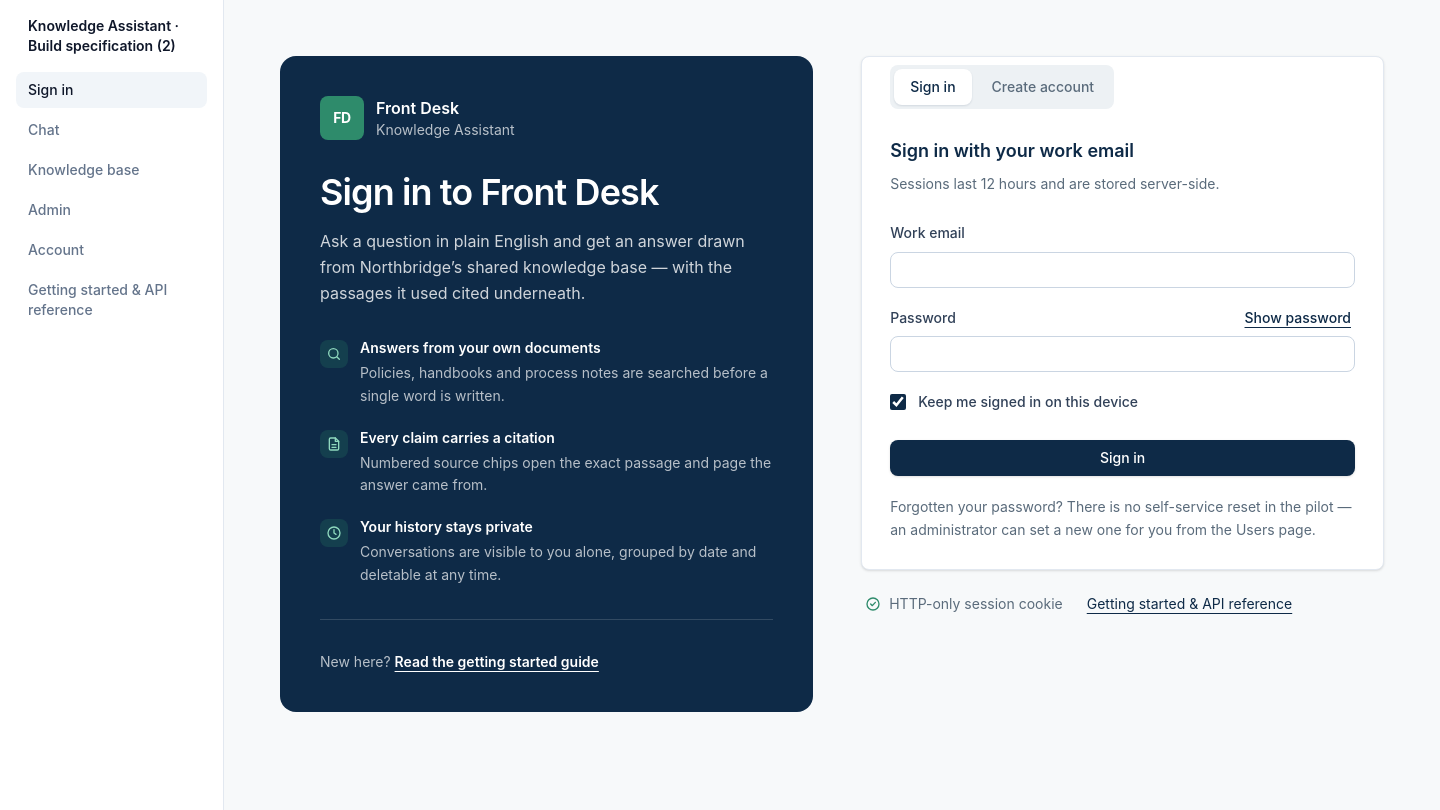
Scenario: SignIn › renders the server's generic error text verbatim on login failure, with no field attribution
The width and height of the screenshot is (1440, 810).
In the field labelled "Work email": (1123, 270) [890, 252, 1355, 288], type "ada@northbridge.co.uk"
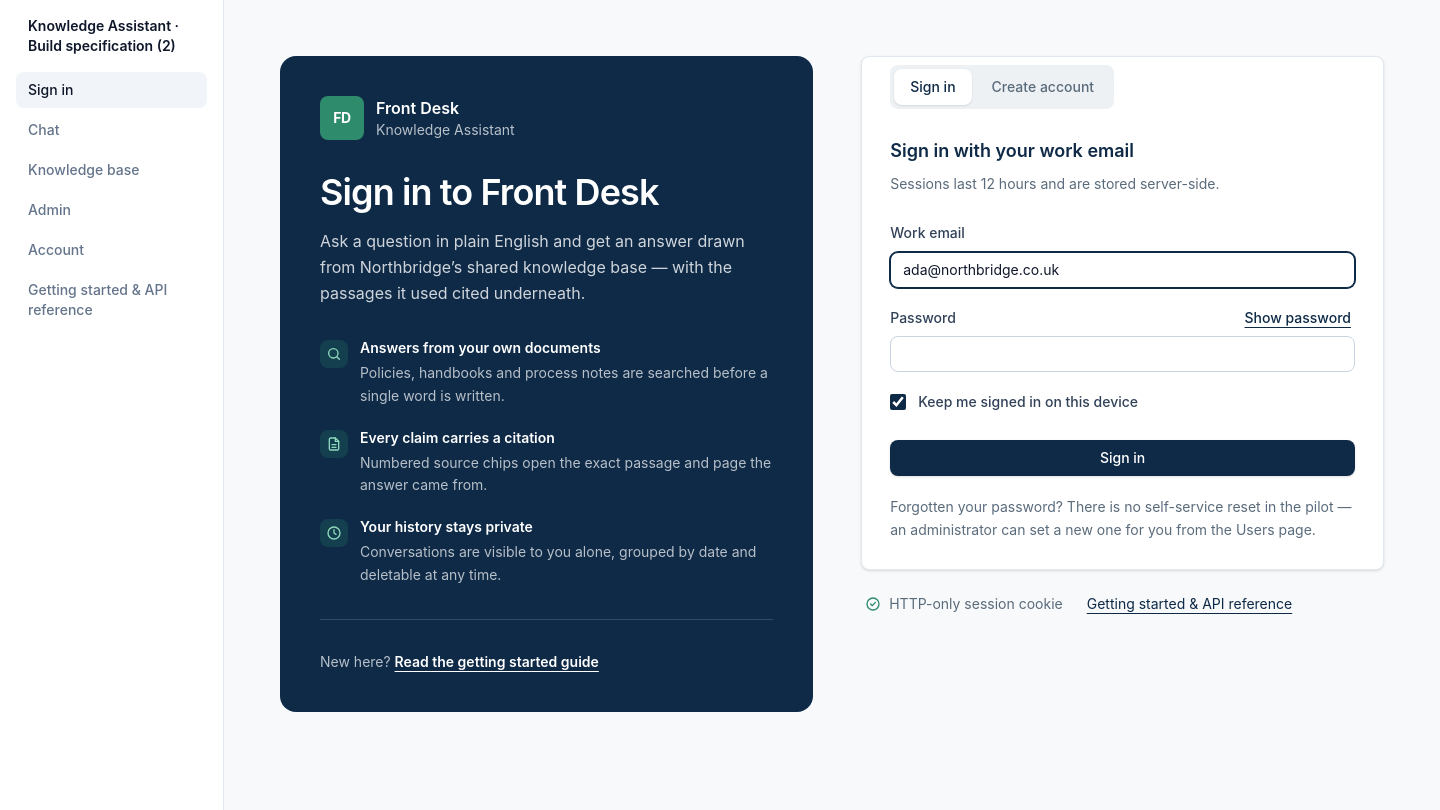
In the password field labelled "Password": (1123, 354) [890, 336, 1355, 372], type "wrong-password"
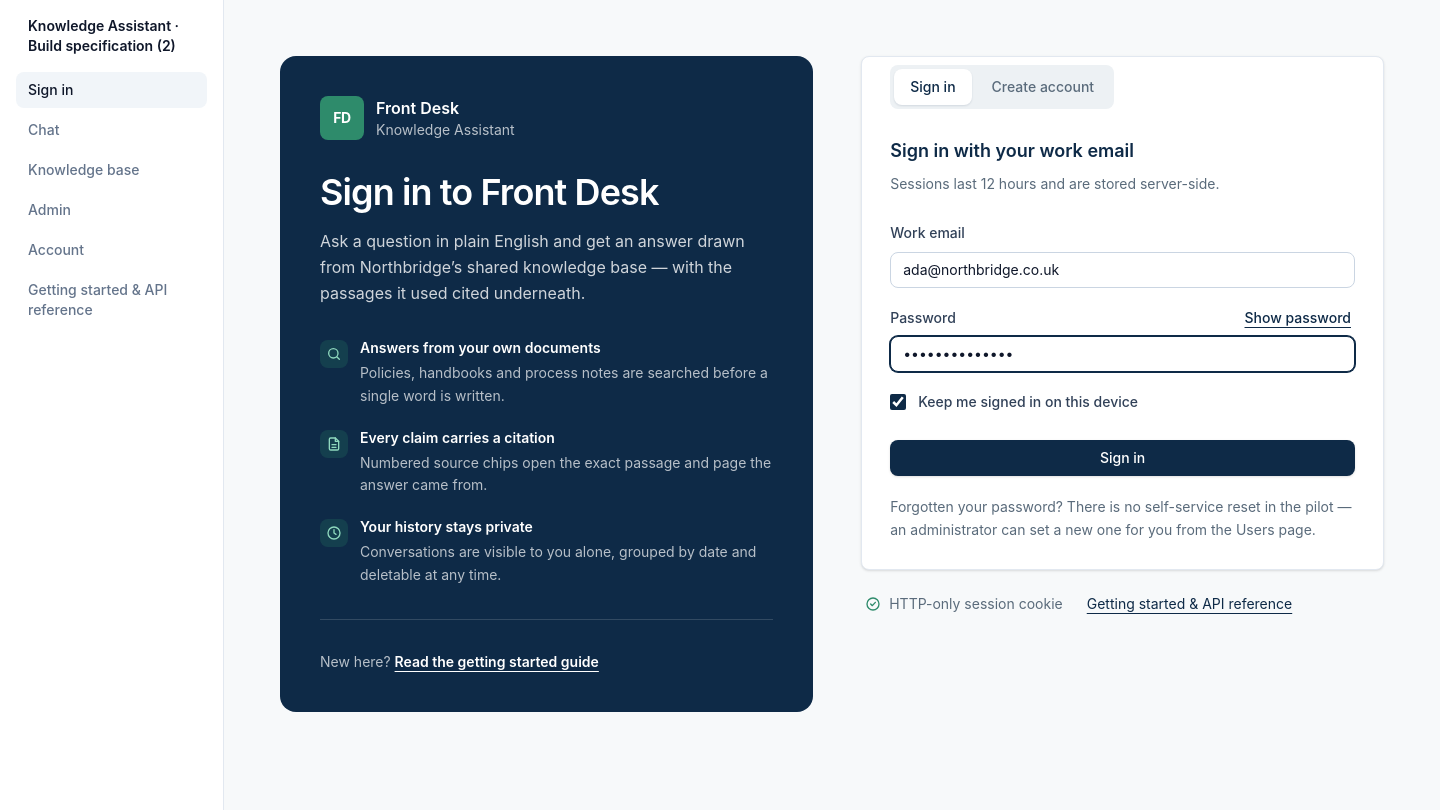
Click the button "Sign in": (1123, 458) [890, 440, 1355, 476]
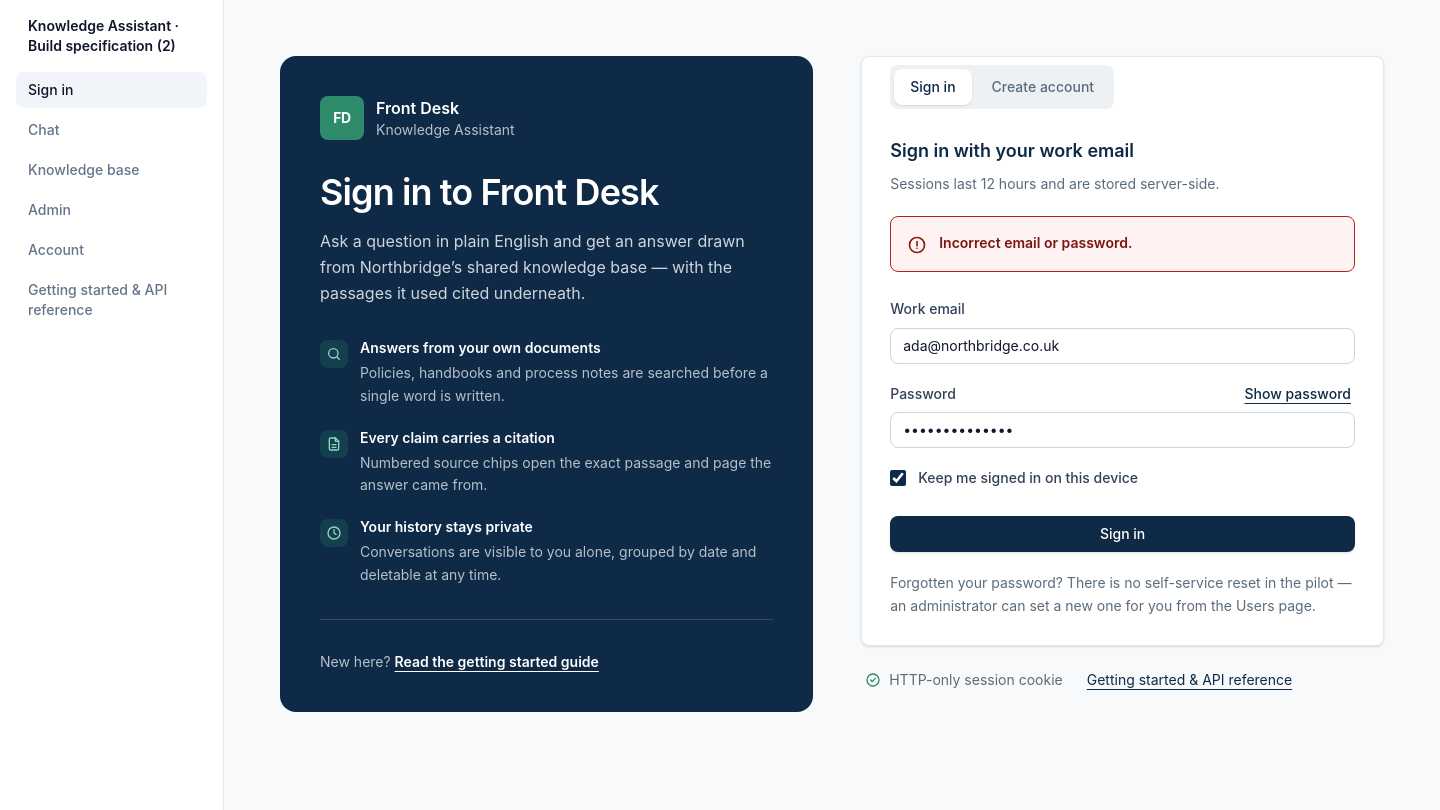
Now the message reads "Incorrect email or password.", box [939, 234, 1132, 251]
